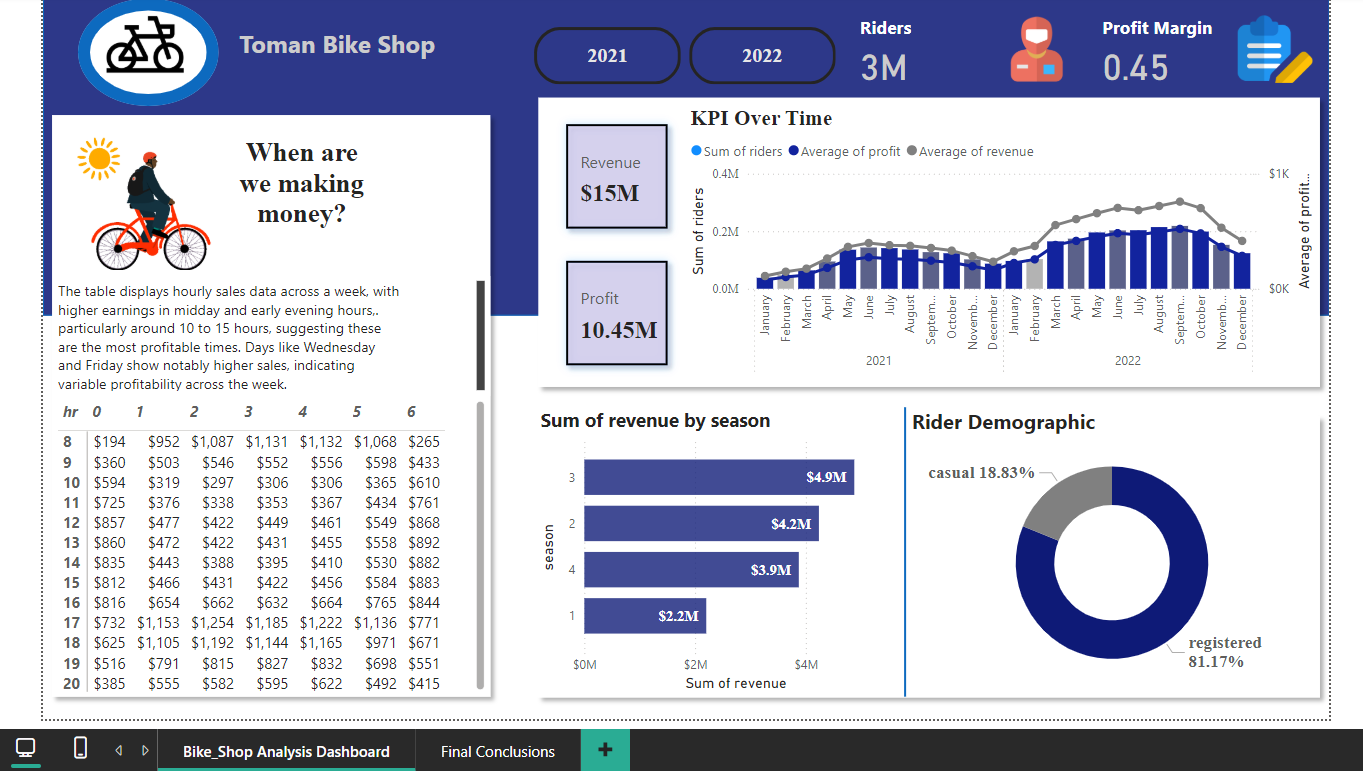

What the dashboard file says about the page in this screenshot:
{"tool":"powerbi","page":{"name":"Bike_Shop Analysis Dashboard","canvas":[1280,720],"ordinal":0},"visuals":[{"type":"shape","box":[0,2.7,1280.3,315.6],"z":0},{"type":"shape","box":[0,109.8,454.2,596.9],"z":1000},{"type":"shape","box":[484.4,91.9,795.9,306],"z":2000},{"type":"shape","box":[484.4,408.9,795.9,297.8],"z":3000},{"type":"cardVisual","fields":{"Data":["Min(Query1.riders)"]},"box":[10,120.7,186.6,158],"z":4000},{"type":"pivotTable","fields":{"Rows":["Query1.hr"],"Values":["Avg(Query1.revenue)"],"Columns":["Query1.weekday"]},"box":[9.6,397.9,435,299.1],"z":5000},{"type":"textbox","box":[183.9,135.8,146.8,144.1],"z":6000},{"type":"textbox","box":[9.6,278.6,435,119.4],"z":7000},{"type":"lineClusteredColumnComboChart","title":"KPI Over Time","fields":{"Category":["Query1.dteday.Variation.Date Hierarchy.Year","Query1.dteday.Variation.Date Hierarchy.Month","Query1.dteday.Variation.Date Hierarchy.Day"],"Y":["Sum(Query1.riders)"],"Y2":["Avg(Query1.profit)","Avg(Query1.revenue)"]},"box":[639.5,109.8,628.5,275.8],"z":8000},{"type":"barChart","fields":{"Category":["Query1.season"],"Y":["Sum(Query1.revenue)"]},"box":[489.9,408.9,367.8,288.2],"z":9000},{"type":"donutChart","title":"Rider Demographic","fields":{"Category":["Query1.rider_type"],"Y":["Sum(Query1.riders)"]},"box":[859,408.9,408.9,288.2],"z":10000},{"type":"shape","box":[842.5,408.9,31.6,288.2],"z":11000},{"type":"cardVisual","title":"KPI Over Time","fields":{"Data":["Sum(Query1.revenue)","Sum(Query1.profit)"]},"box":[503.6,111.1,135.8,274.4],"z":12000},{"type":"cardVisual","fields":{"Data":["Sum(Query1.riders)","Query1.Profit Margin"]},"box":[795.9,2.7,484.4,89.2],"z":13000},{"type":"shape","box":[34.3,2.7,140,107],"z":14000},{"type":"image","box":[59,2.7,86.4,91.9],"z":15000},{"type":"textbox","box":[190.7,26.1,299.1,60.4],"z":16000},{"type":"advancedSlicerVisual","fields":{"Values":["Query1.Year"]},"box":[484.4,26.1,311.5,67.2],"z":17000}]}

Visuals, with their boxes on the page's 1280x720 design canvas (x1, y1, x2, y2). These are canvas units, not pixel positions in the 1363x771 screenshot, which may show the page scaled, cropped or inside an application window:
shape: [0,3,1280,318]
shape: [0,110,454,707]
shape: [484,92,1280,398]
shape: [484,409,1280,707]
cardVisual - Min(Query1.riders): [10,121,197,279]
pivotTable - Query1.hr x Avg(Query1.revenue): [10,398,445,697]
textbox: [184,136,331,280]
textbox: [10,279,445,398]
"KPI Over Time" lineClusteredColumnComboChart: [640,110,1268,386]
barChart - Query1.season x Sum(Query1.revenue): [490,409,858,697]
"Rider Demographic" donutChart: [859,409,1268,697]
shape: [842,409,874,697]
"KPI Over Time" cardVisual: [504,111,639,386]
cardVisual - Sum(Query1.riders) x Query1.Profit Margin: [796,3,1280,92]
shape: [34,3,174,110]
image: [59,3,145,95]
textbox: [191,26,490,86]
advancedSlicerVisual - Query1.Year: [484,26,796,93]
